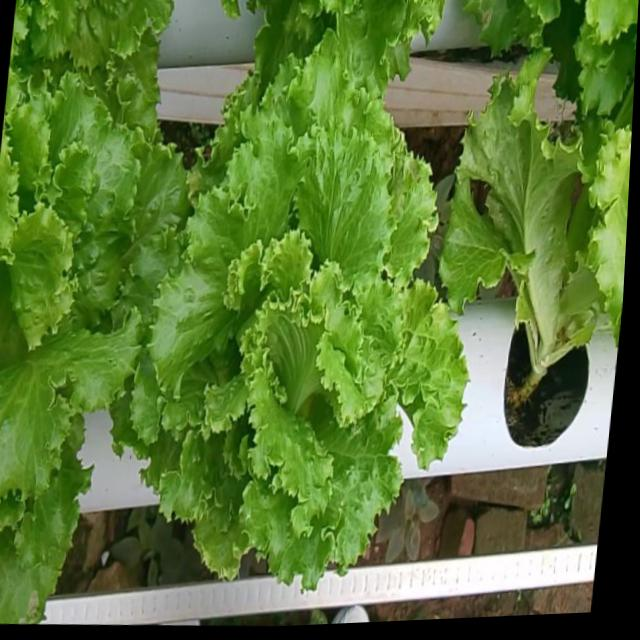Mature: (136, 66, 475, 606), (0, 84, 194, 524)
